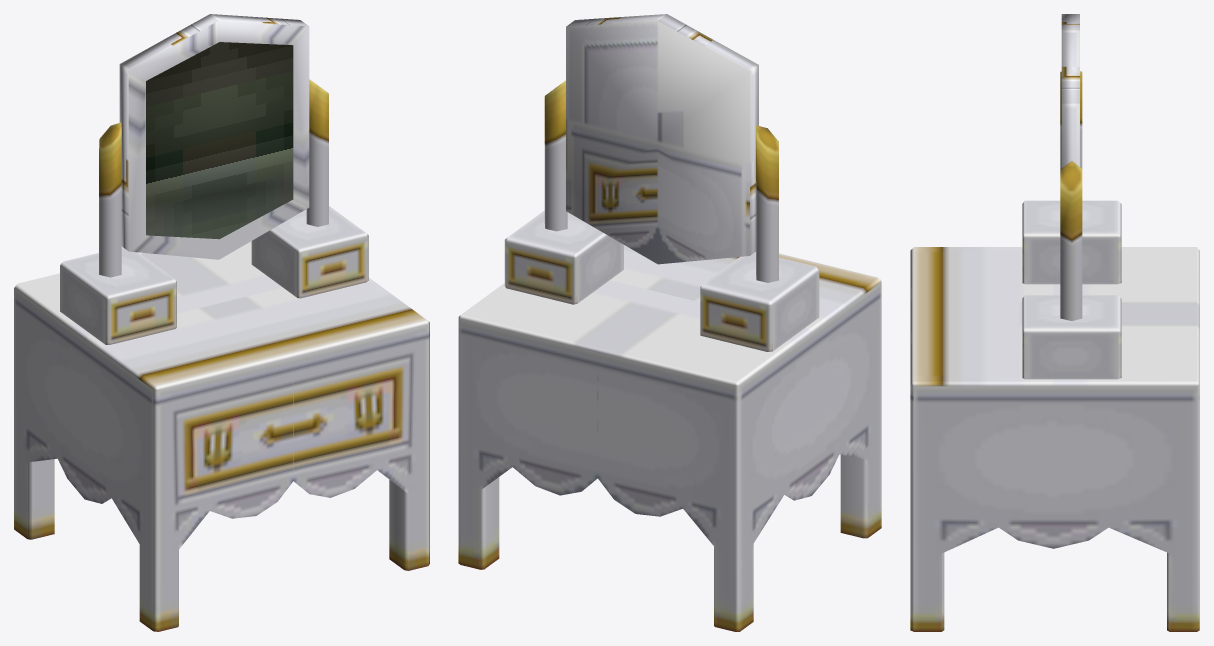
The model's file is rmk_ryl_dresser.dae.
3 views of the same model, side by side, from view 1: azimuth 30°, elevation 25°; view 2: azimuth 150°, elevation 25°; view 3: azimuth 270°, elevation 25° (orthographic).
Visible parts, largest first — view 1: rmk_ryl_dresser; view 2: rmk_ryl_dresser; view 3: rmk_ryl_dresser.
Boxes of the visible parts, x1,y1,x2,y2 form: rmk_ryl_dresser: (14,14,429,631); rmk_ryl_dresser: (458,14,881,631); rmk_ryl_dresser: (910,14,1199,631).
Size of the model in its own units: 24.8 by 44.9 by 22.11.
Materials: 2 (2 with a texture image).
